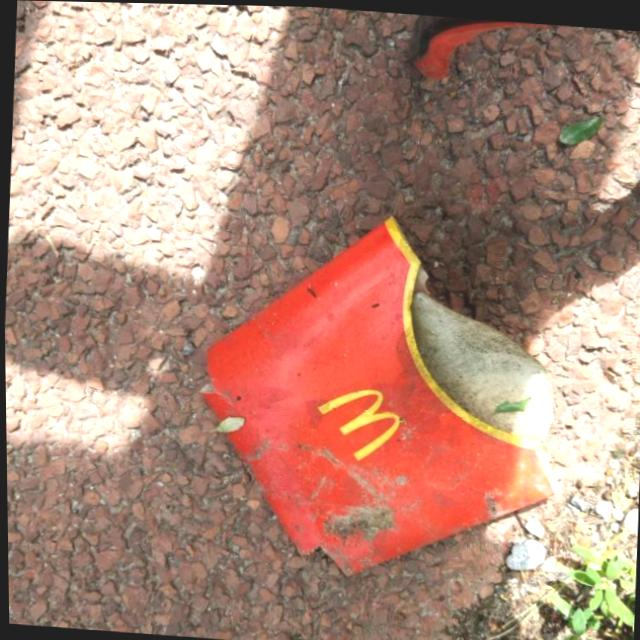Paper: (182, 198, 576, 592)
